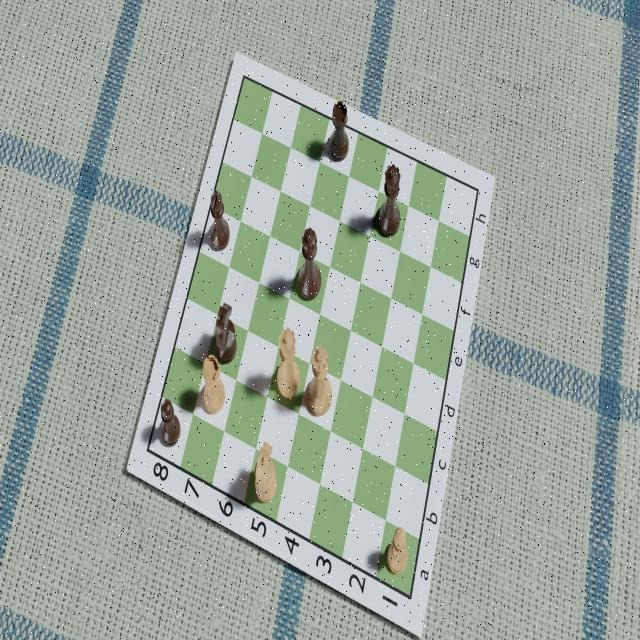black-bishop: (209, 188, 231, 252)
black-pawn: (159, 398, 181, 448), (387, 525, 409, 575)
black-queen: (298, 226, 322, 302), (378, 162, 401, 238), (214, 301, 237, 365)
black-rook: (330, 100, 350, 163)
white-king: (307, 343, 332, 416)
white-knight: (254, 440, 278, 503)
white-queen: (275, 325, 300, 399)
white-rook: (202, 354, 225, 414)
